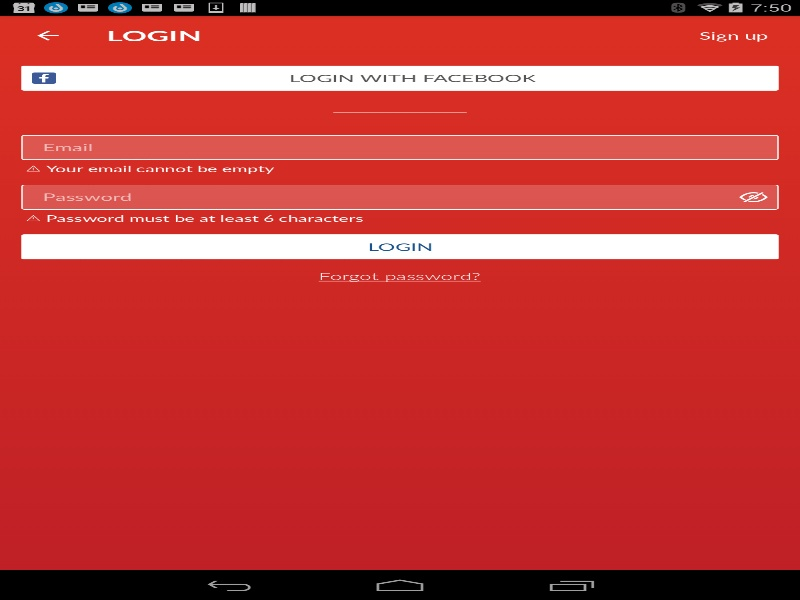Button: (21, 65, 778, 90), (21, 234, 778, 259), (10, 15, 85, 55), (728, 184, 778, 209)
Input: (21, 135, 778, 160), (21, 184, 778, 209)
